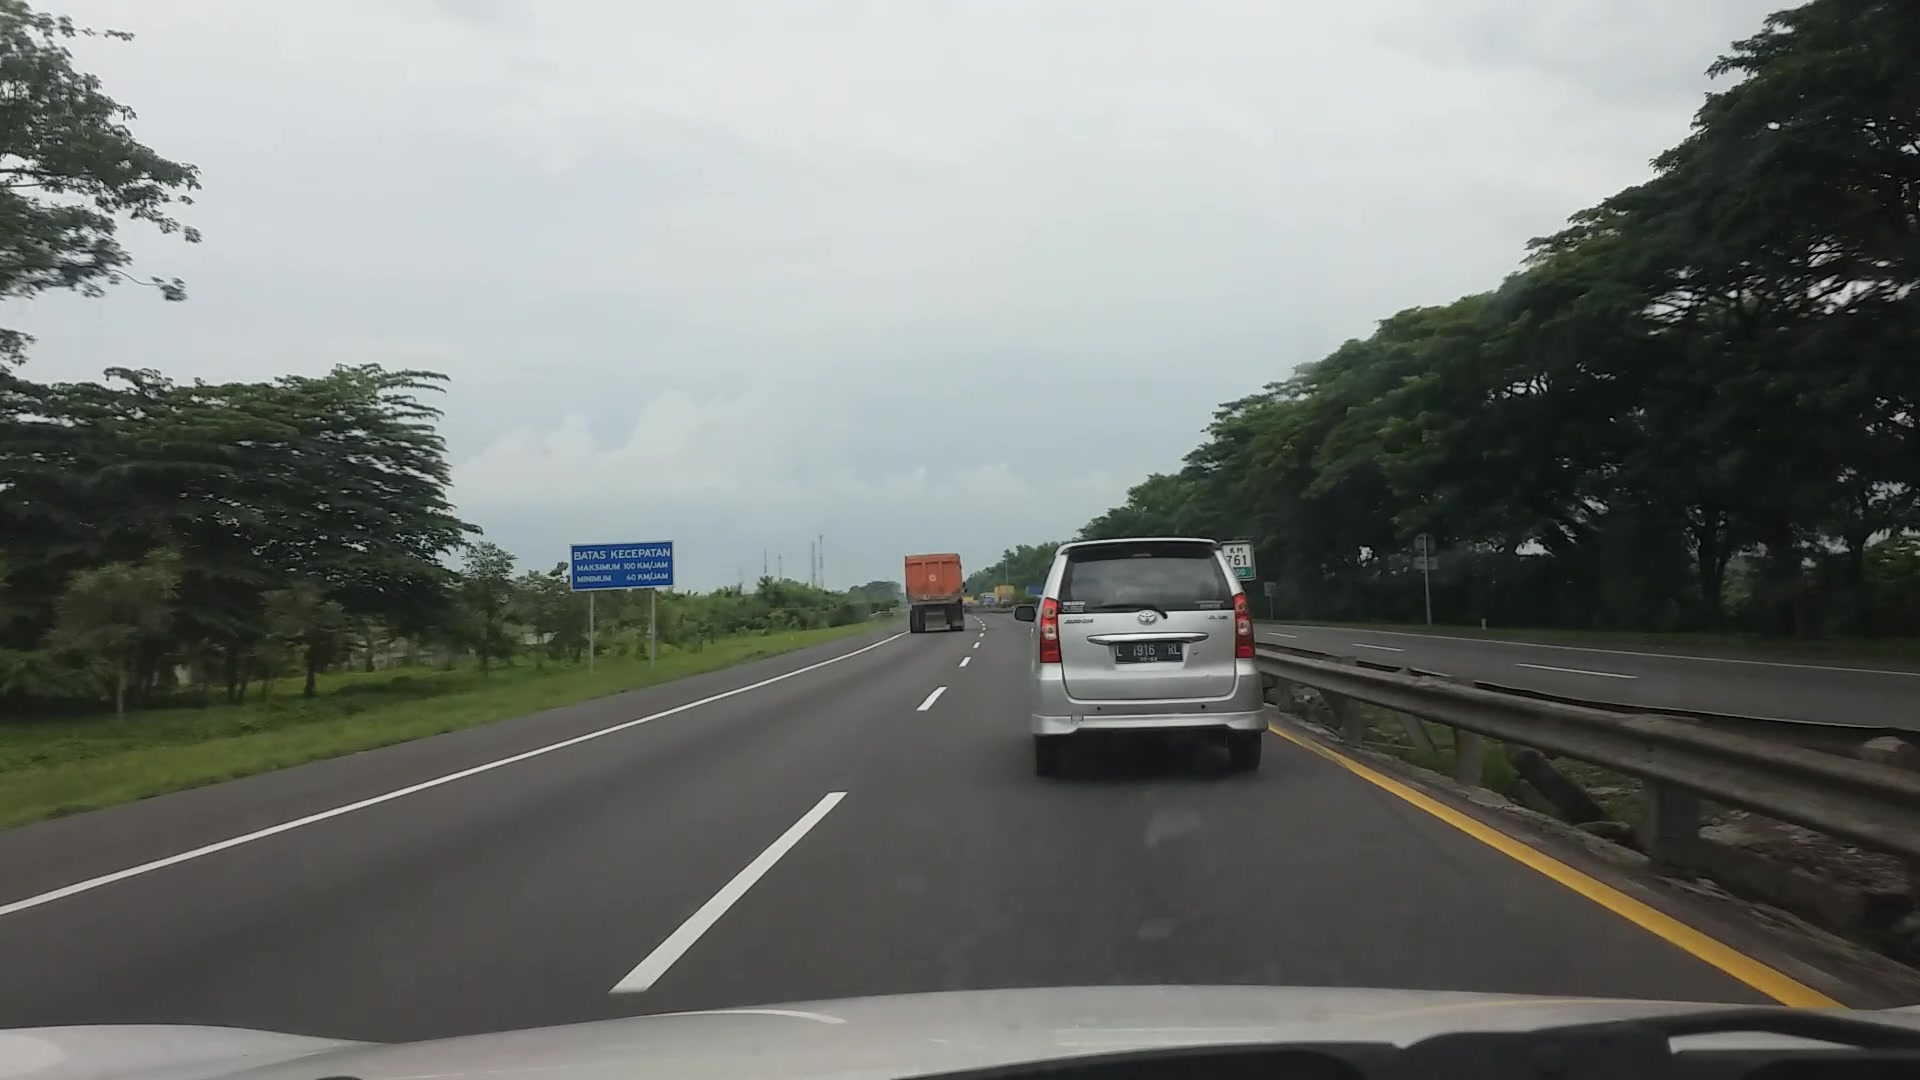plate_positive: (1116, 641, 1183, 663)
